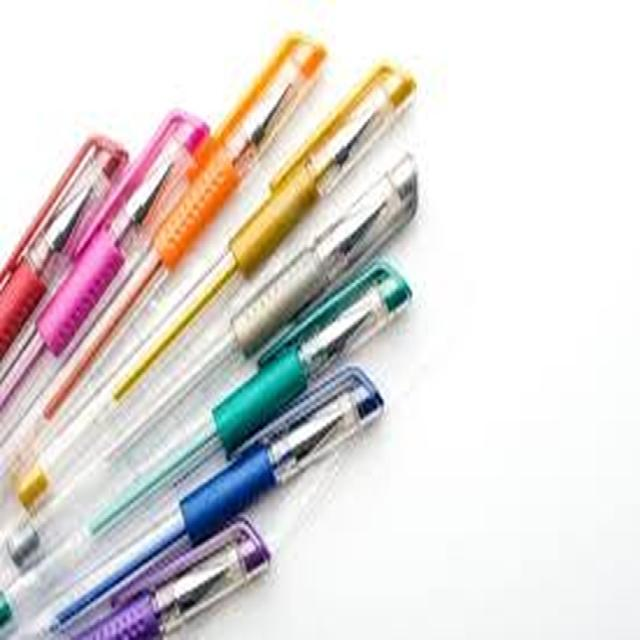pen: (0, 63, 425, 351), (0, 364, 566, 561), (0, 149, 489, 300), (0, 98, 222, 406), (0, 296, 524, 413), (99, 18, 348, 252), (0, 366, 478, 450), (0, 124, 144, 338), (20, 550, 359, 640)
